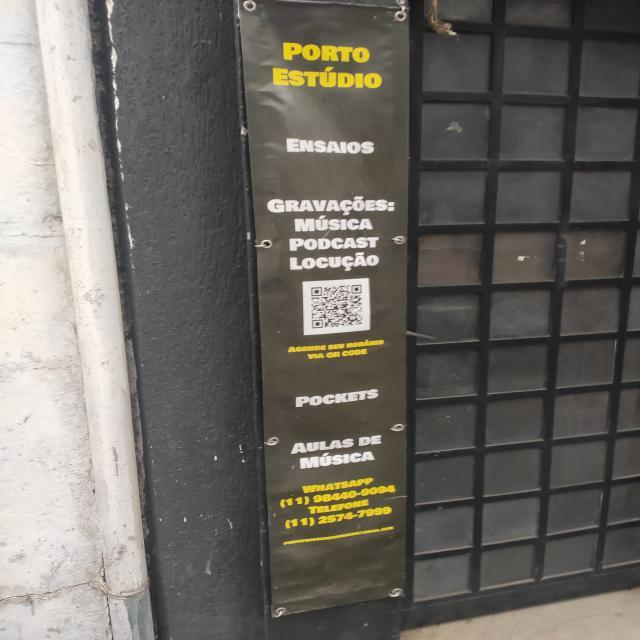qrcode: (312, 286, 364, 329)
